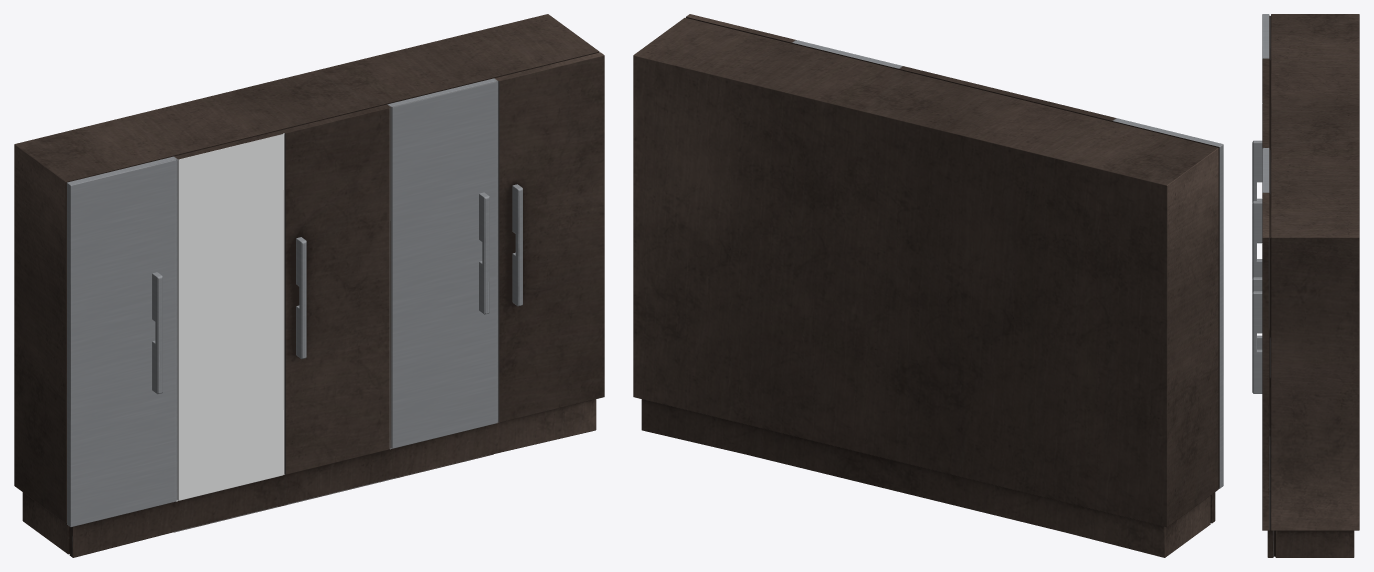
File: modern_wardrobe.glb
3 renders of one model, left to right at view 1: azimuth 30°, elevation 25°; view 2: azimuth 150°, elevation 25°; view 3: azimuth 270°, elevation 25°, orthographic. The views are drawn at different scales.
Visible parts, largest first — view 1: Object_2; view 2: Object_2; view 3: Object_2.
Part boxes in pixels (left/top/right/bottom): Object_2: left=14, top=14, right=604, bottom=557; Object_2: left=633, top=14, right=1223, bottom=557; Object_2: left=1252, top=14, right=1359, bottom=557.
Bounding box in the file's own units: 3.27 × 2.2 × 0.6608.
Materials: 1 (1 with a texture image).
